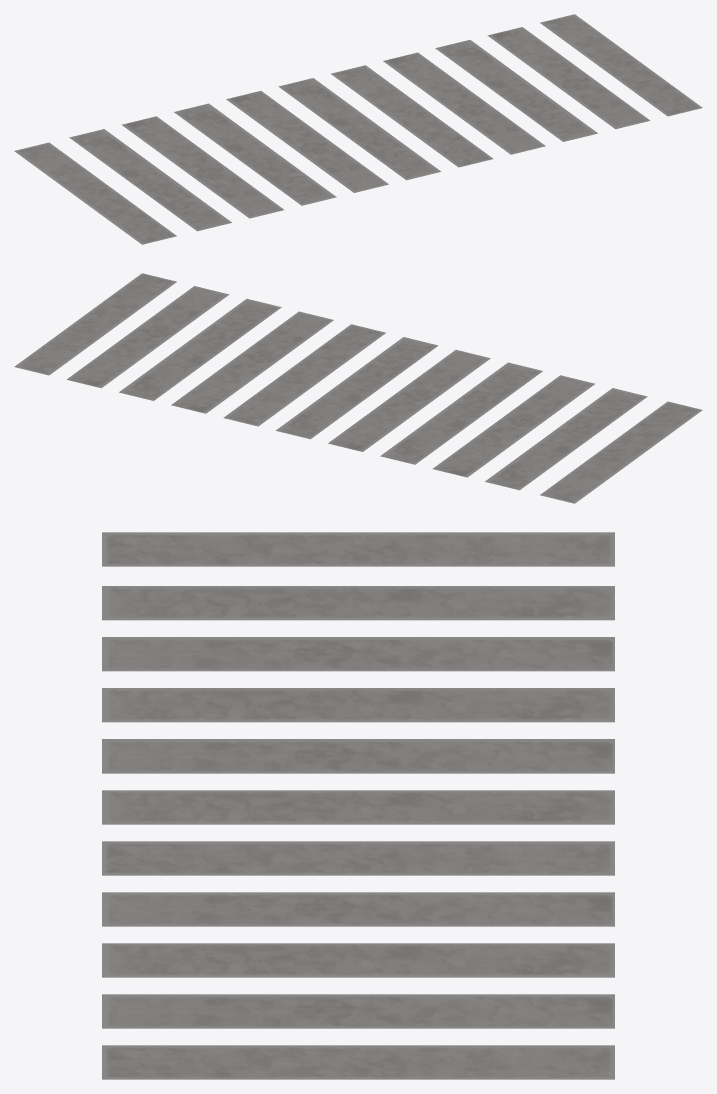
File: SM_Pedestrian_Crossing.fbx
3 views of the same model, one above another, from view 1: azimuth 30°, elevation 25°; view 2: azimuth 150°, elevation 25°; view 3: azimuth 270°, elevation 25° (orthographic). The views are drawn at different scales.
Parts seen in each view (by area): view 1: SM_Pedestrian_Crossing_LOD0; view 2: SM_Pedestrian_Crossing_LOD0; view 3: SM_Pedestrian_Crossing_LOD0.
Part boxes in pixels (bbox=[...]): SM_Pedestrian_Crossing_LOD0: bbox=[14, 14, 702, 244]; SM_Pedestrian_Crossing_LOD0: bbox=[14, 273, 702, 503]; SM_Pedestrian_Crossing_LOD0: bbox=[102, 532, 614, 1079].
Size of the model in its own units: 967 by 383 by 0.000115.
